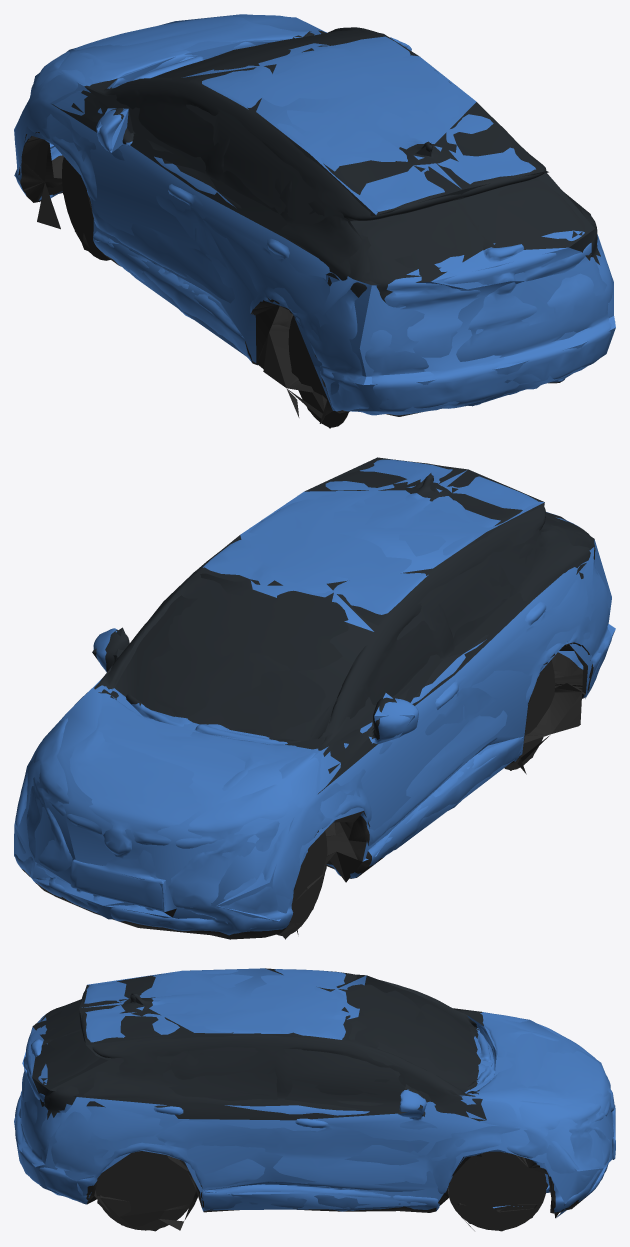
File: nissan-ariya.glb
The picture shows the model from 3 angles, top to bottom: view 1: azimuth 30°, elevation 25°; view 2: azimuth 150°, elevation 25°; view 3: azimuth 270°, elevation 25°; orthographic projection. The views are drawn at different scales.
Parts seen in each view (by area): view 1: body, far; view 2: body, far; view 3: body, far.
Boxes of the visible parts, box(x1,y1,x2,y2) form: body: box(14, 15, 615, 427); far: box(14, 14, 615, 428); body: box(14, 459, 612, 939); far: box(14, 457, 615, 939); body: box(15, 969, 615, 1230); far: box(14, 968, 615, 1231).
Size of the model in its own units: 2.16 by 1.72 by 4.64.
